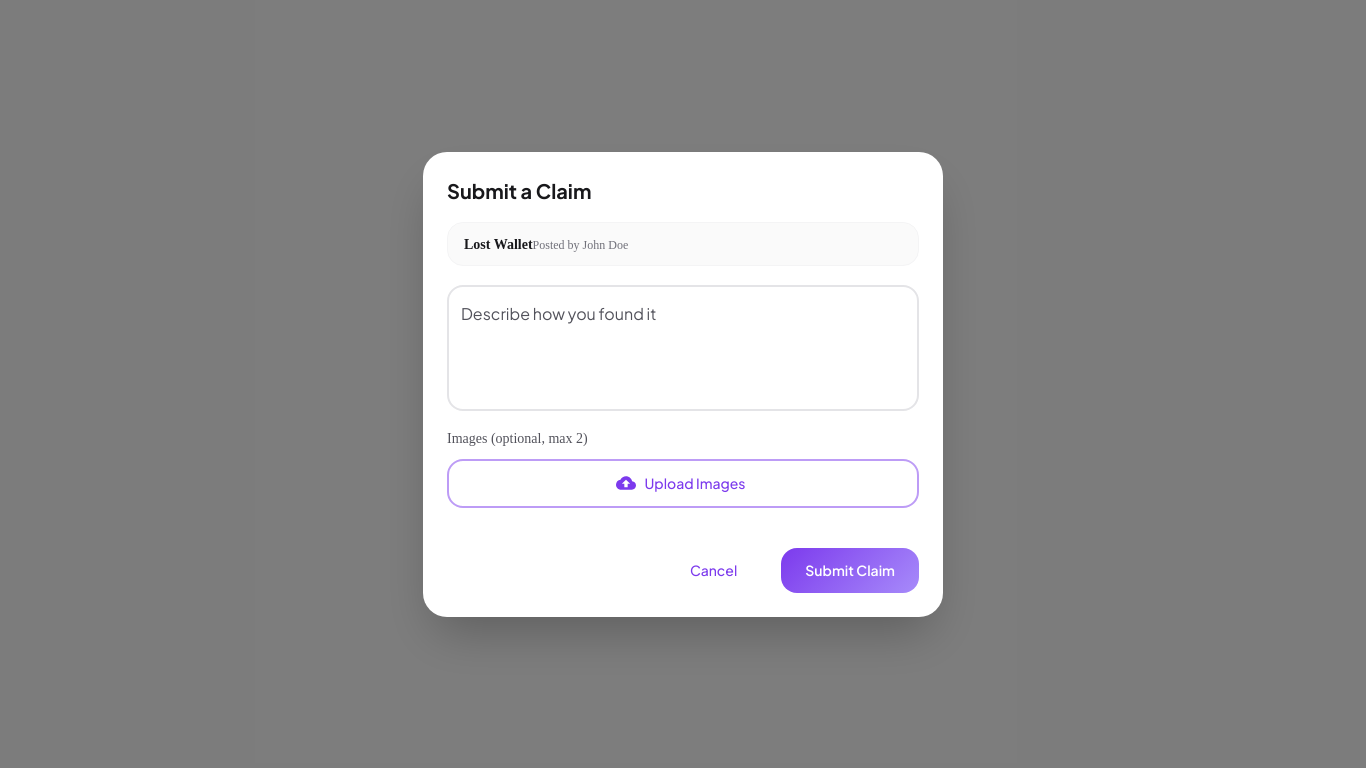
Test: ClaimSubmitDialog › shows validation error when description is under 10 chars
The image size is (1366, 768).
Type "Short" into the text box labelled "Describe how you found it" at {"x": 683, "y": 348}, box [461,302,905,394]
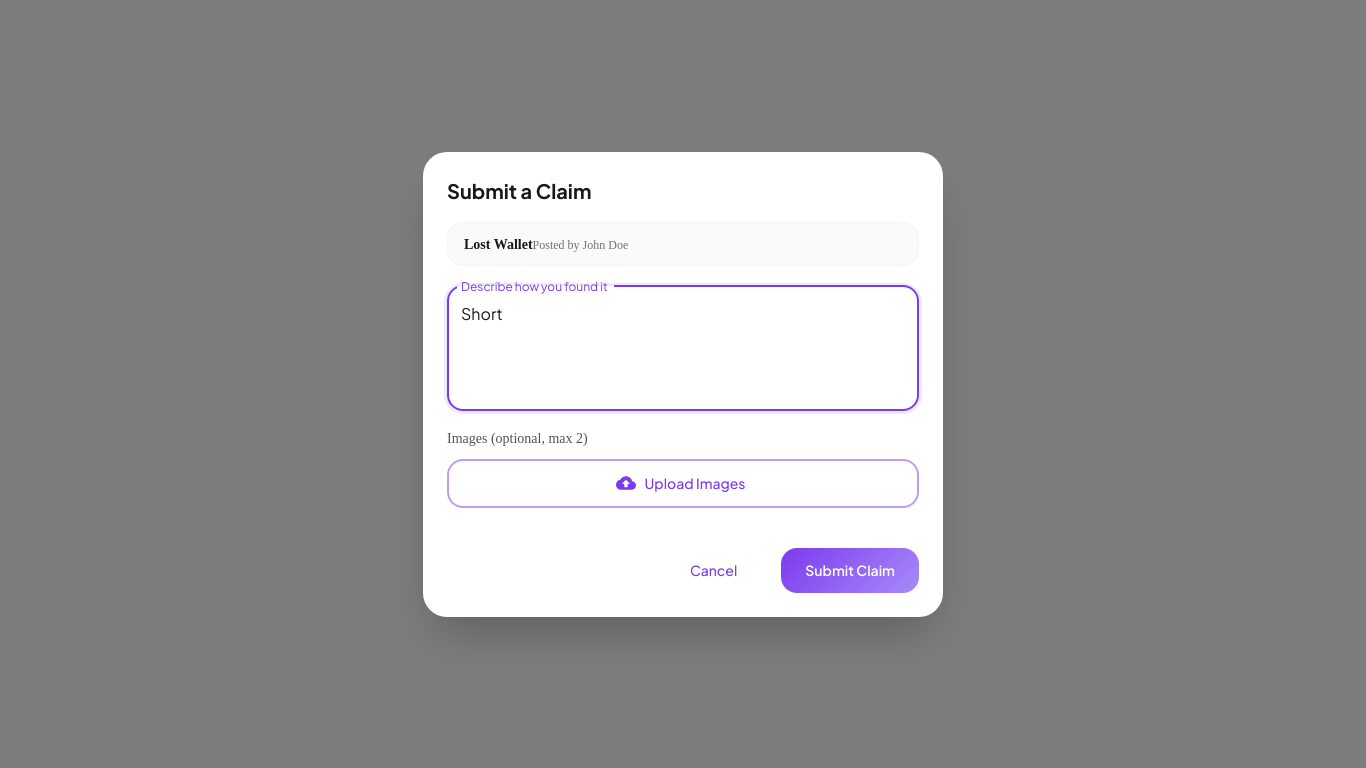
Click the button "Submit Claim" at {"x": 850, "y": 570}, box [781,548,919,592]
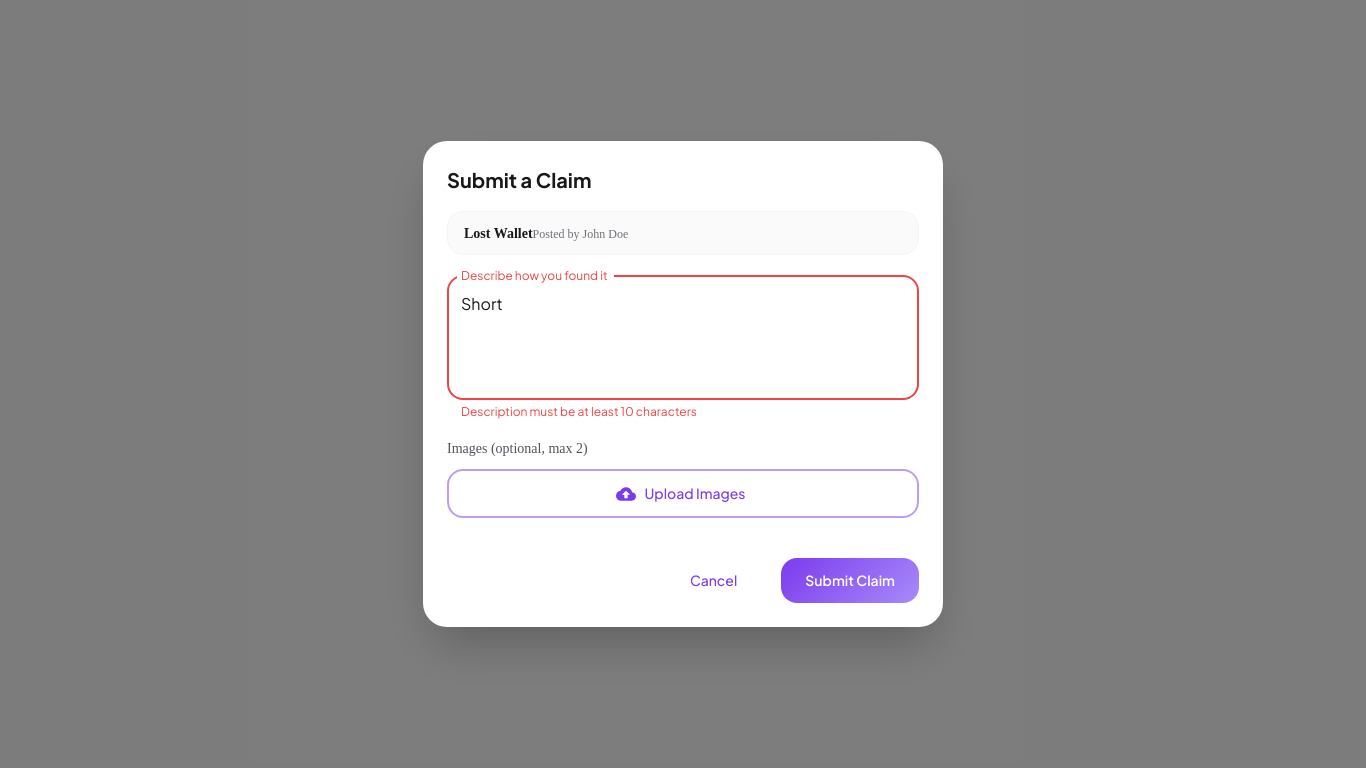
Check: the text "Description must be at least 10 characters" is shown, box [461,404,697,419]
